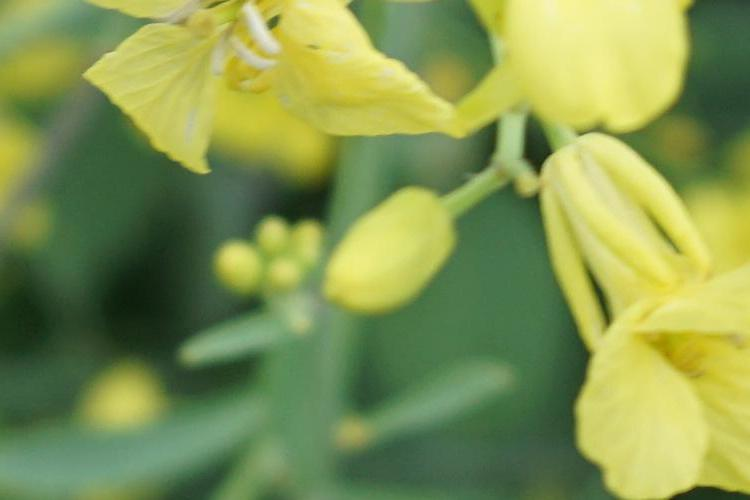bud: (326, 185, 448, 325), (207, 243, 263, 298), (253, 218, 291, 258), (268, 260, 301, 295), (296, 222, 322, 260)
yellow: (533, 143, 733, 480), (74, 9, 441, 182), (449, 9, 671, 134)
